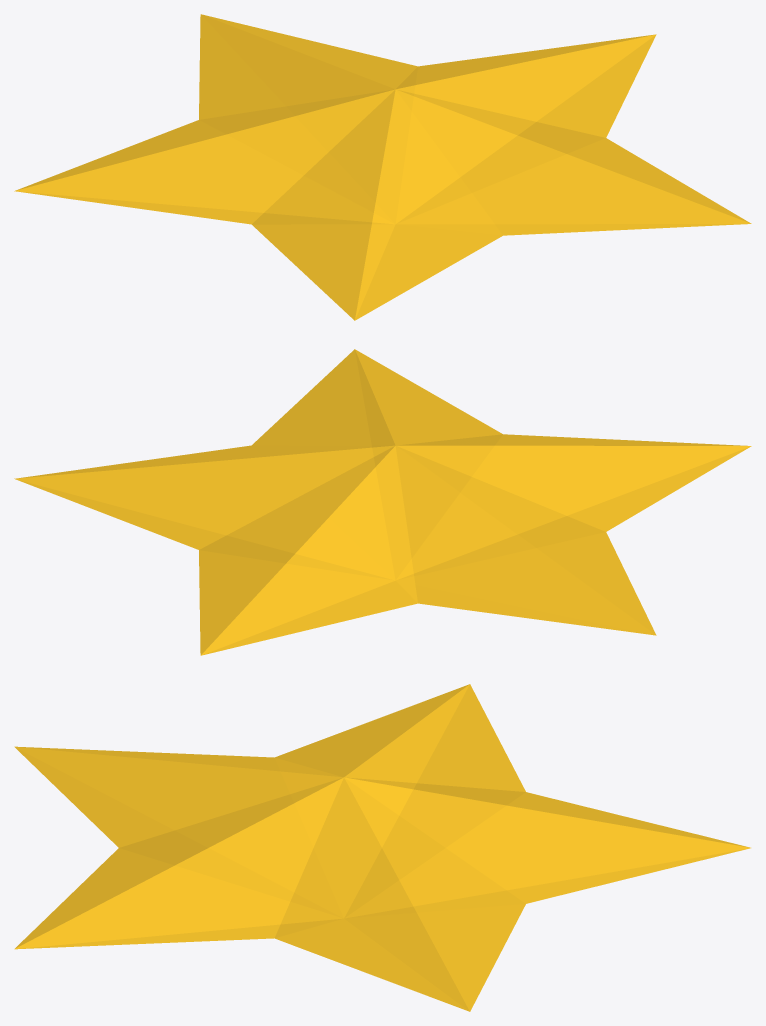
File: star.fbx
The picture shows the model from 3 angles, top to bottom: view 1: azimuth 30°, elevation 25°; view 2: azimuth 150°, elevation 25°; view 3: azimuth 270°, elevation 25°; orthographic projection. The views are drawn at different scales.
Visible parts, largest first — view 1: Star; view 2: Star; view 3: Star.
Part boxes in pixels (x1,y1,x2,y2): Star: (14, 14, 751, 320); Star: (14, 349, 751, 655); Star: (14, 684, 750, 1011).
Size of the model in its own units: 0.4076 by 0.0818 by 0.3876.
Materials: 1 (1 with a texture image).
